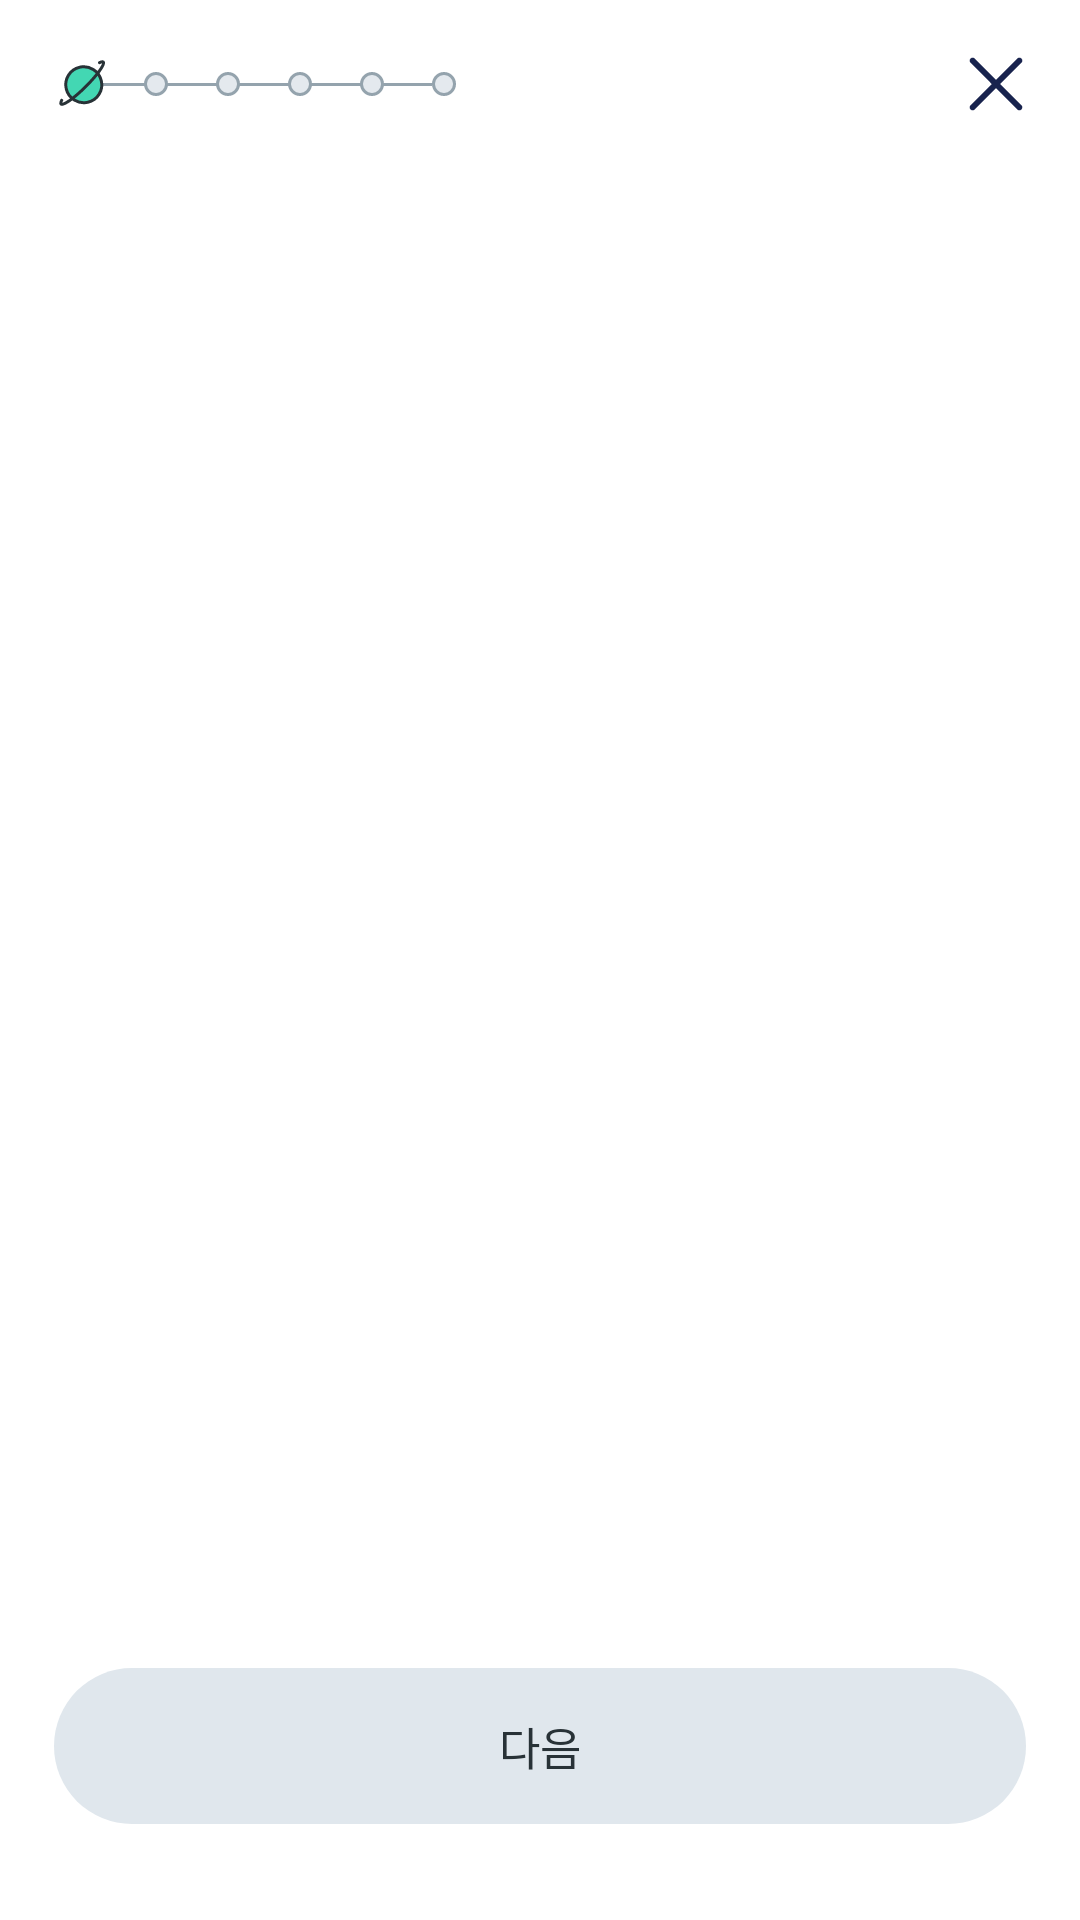

Screen size 1080 × 1920. Icon name, then its box in pixels as (x1, y1, x2, y2):
cancel: (969, 57, 1023, 111)
